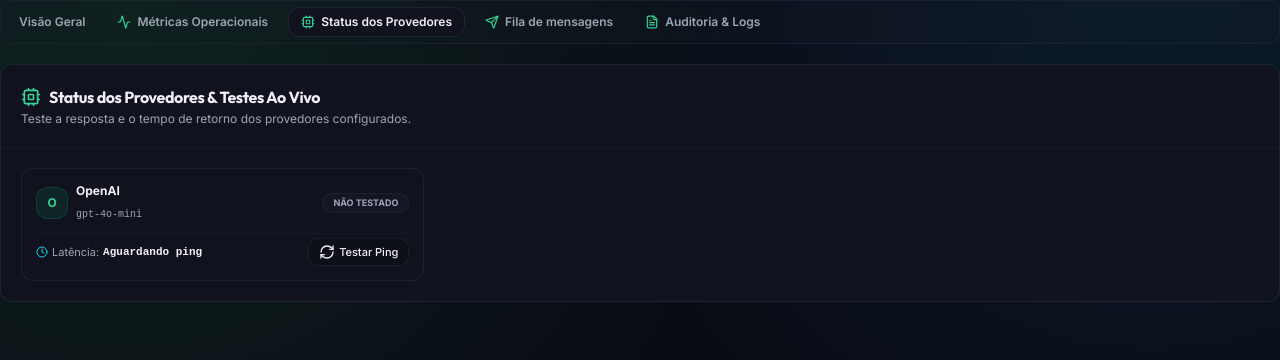
Contratos reais da operação de IA › mede provedor somente após resposta real e não exibe latências fictícias
Click the button "Testar Ping" at (359, 252), box [308, 238, 409, 266]
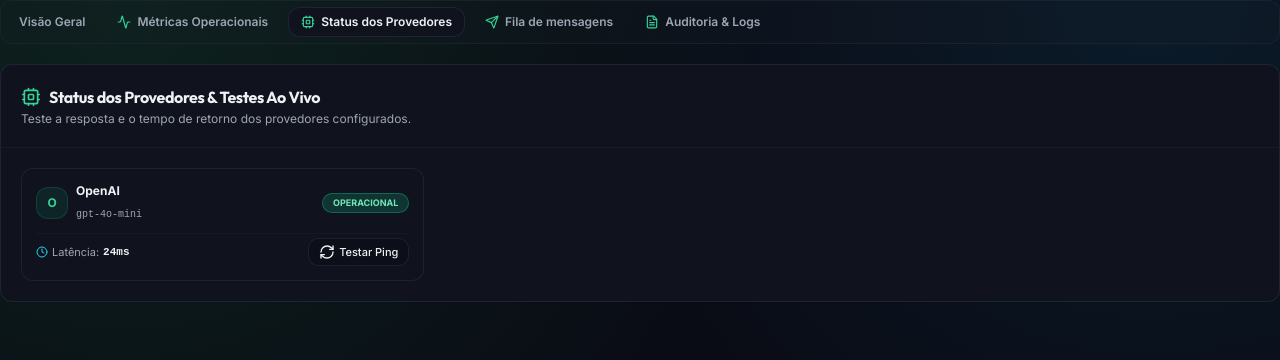
Now the text "24ms" is shown, box [103, 244, 130, 260]
